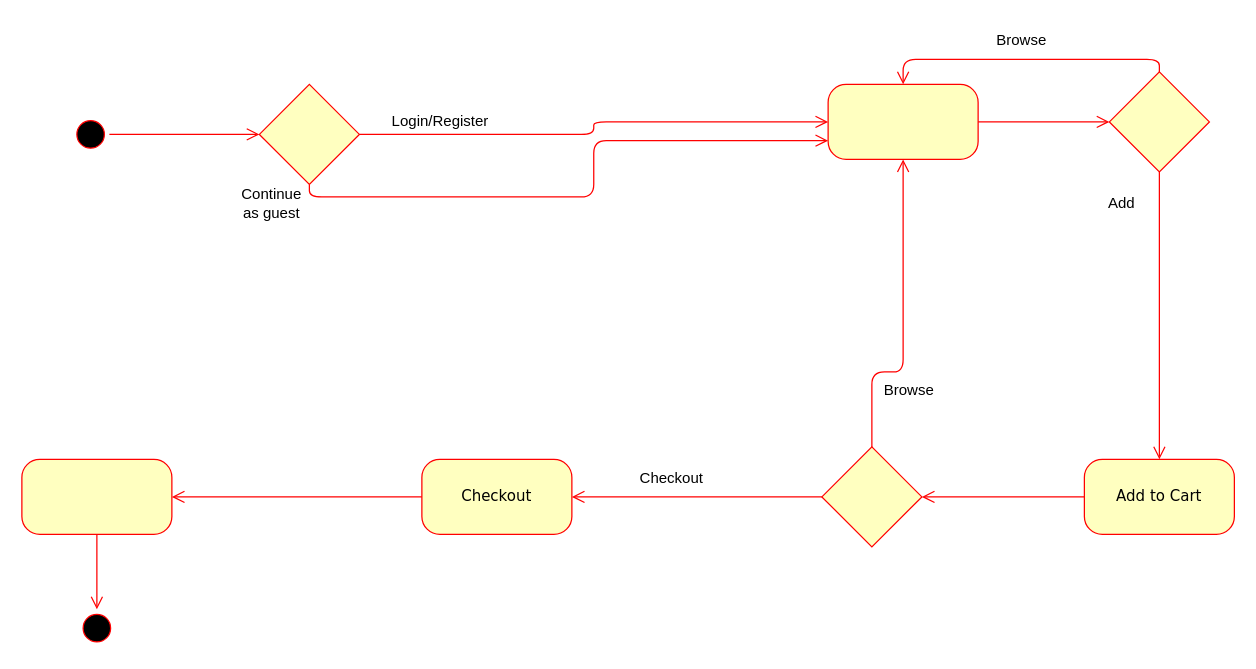
Some shapes in this 1256 by 669 pixel diagram are drawn without their labels. Each missing label, with the centre of its shape:
"Payment" goes at [96,496].
"View products" goes at [902,121].
